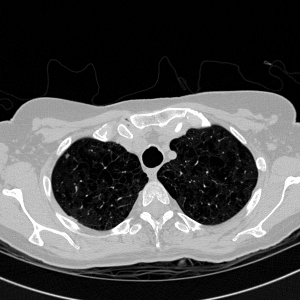nodule: (65, 153, 69, 157)
